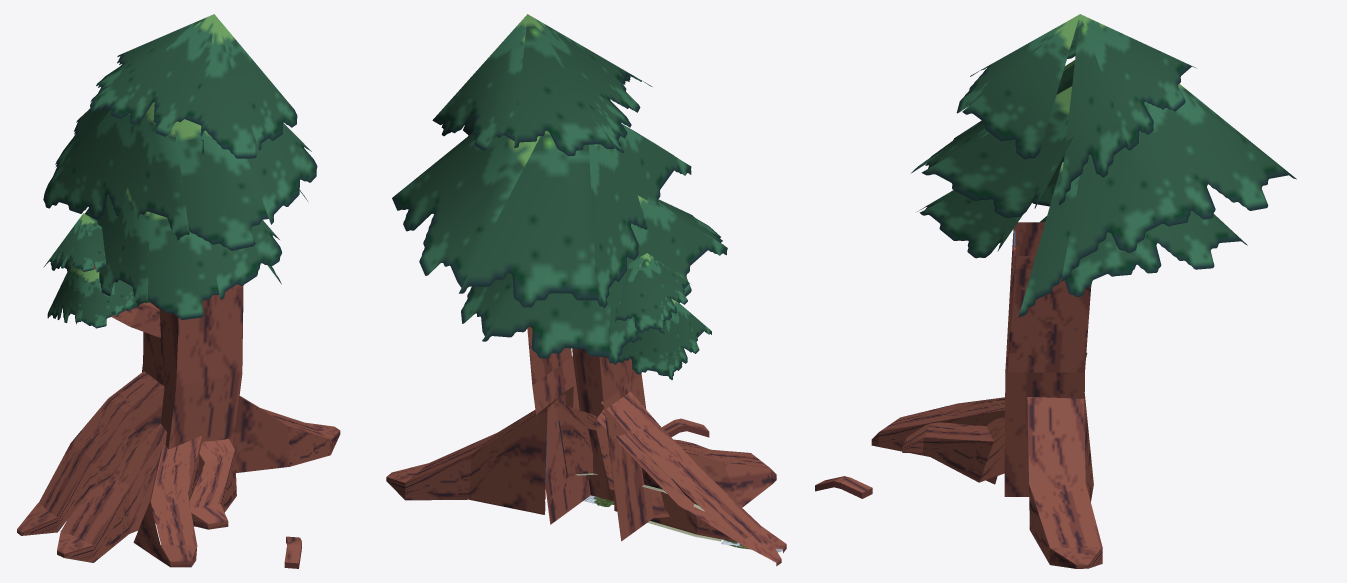
The model's file is Arvore1.fbx.
The picture shows the model from 3 angles, left to right: view 1: azimuth 30°, elevation 25°; view 2: azimuth 150°, elevation 25°; view 3: azimuth 270°, elevation 25°; orthographic projection. The views are drawn at different scales.
Parts seen in each view (by area): view 1: Copa1, Arvore1; view 2: Copa1, Arvore1; view 3: Copa1, Arvore1.
Part boxes in pixels (x1,y1,x2,y2): Copa1: (43, 14, 317, 328); Arvore1: (17, 263, 340, 568); Copa1: (392, 14, 727, 379); Arvore1: (386, 326, 786, 566); Copa1: (911, 14, 1296, 317); Arvore1: (815, 222, 1102, 568).
Bounding box in the file's own units: 988 × 1213 × 1335.
